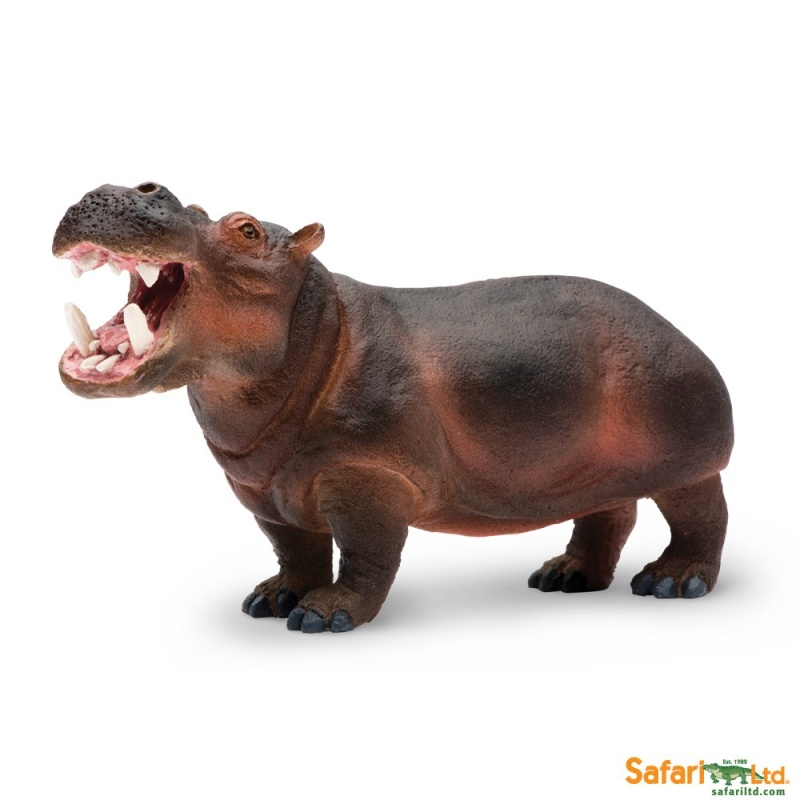hipopotamo: (35, 172, 771, 657)
